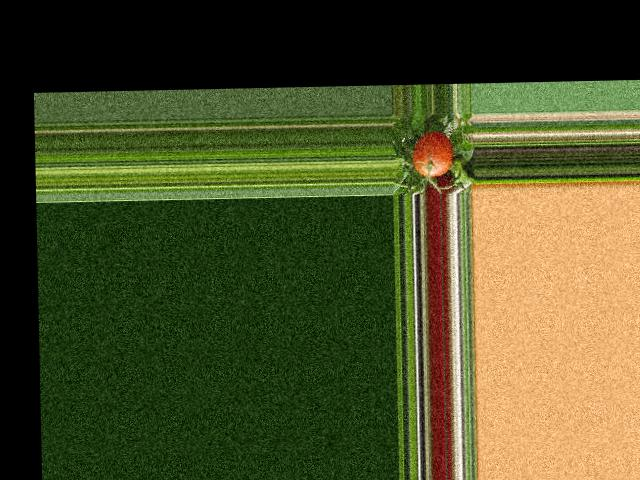tomato: (412, 132, 452, 177)
